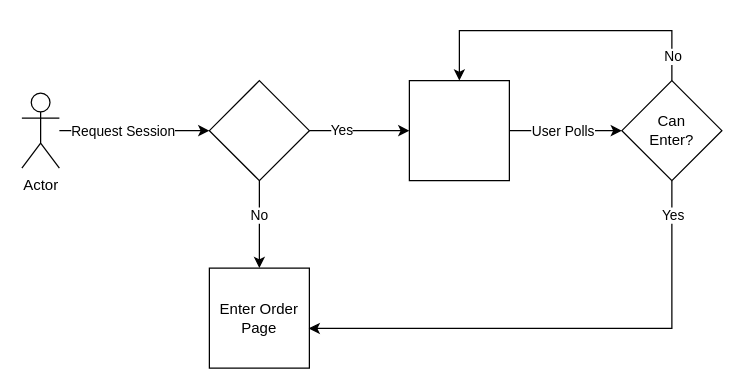
This 744x390 diagram has some shape labels left out. The centre of each missing label's shape, as x and y in pixels:
"activeUsers maxed?" goes at (258,130).
"Assign Queue Position" goes at (458,130).
